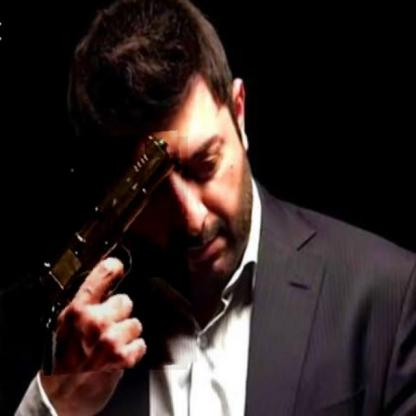handgun: (28, 133, 193, 373)
